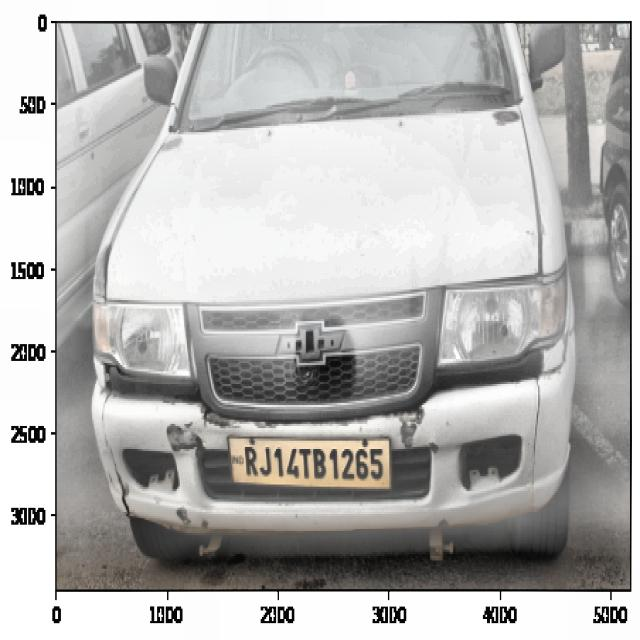license_plate: (239, 438, 387, 491)
